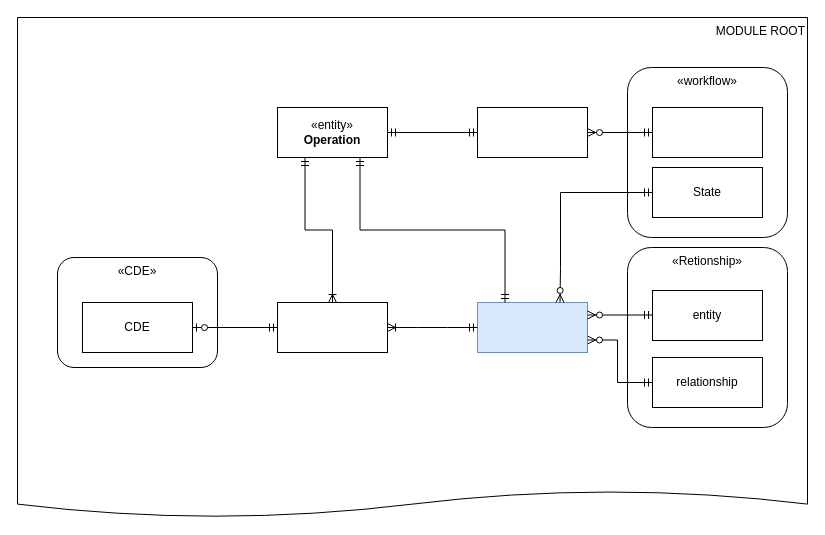
Image size: 825x535. Some labels were removed from this diagram. Each missing label, with the centre of its shape:
"Transition" goes at [707,132].
"«entity» Structure" goes at [532,327].
"«entity» Transition Applied" goes at [532,132].
"«entity» Version" goes at [332,327].
